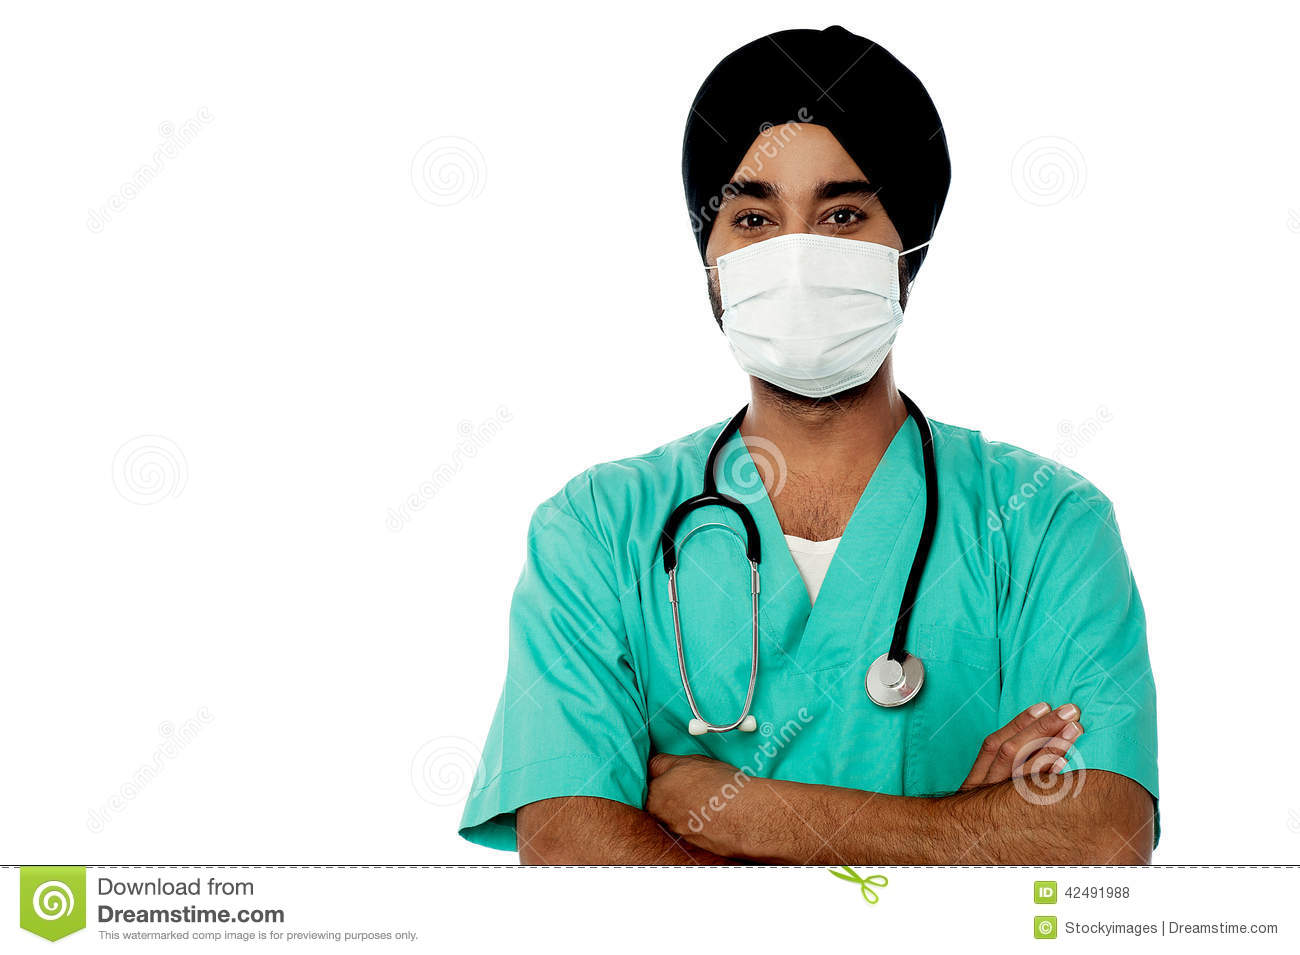mask: (700, 237, 911, 394)
